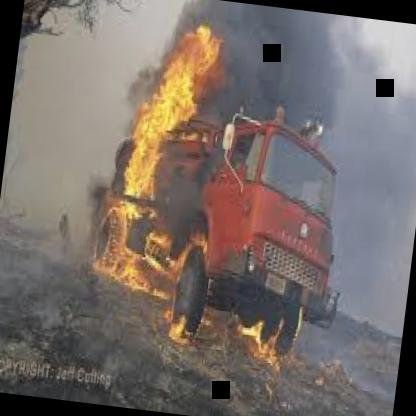fire: (98, 27, 334, 354)
